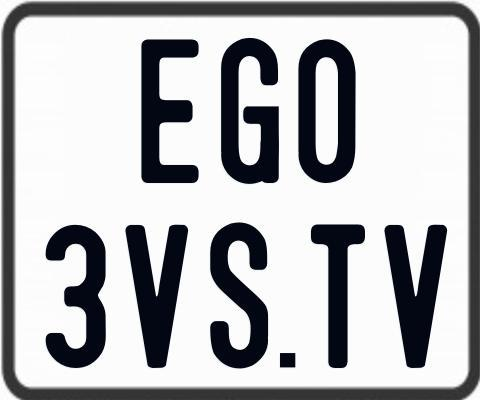0: (297, 37, 357, 183)
3: (45, 225, 111, 368)
E: (141, 36, 203, 183)
G: (221, 37, 284, 189)
S: (210, 222, 272, 368)
T: (308, 223, 364, 372)
V: (123, 224, 189, 373), (384, 224, 448, 367)
